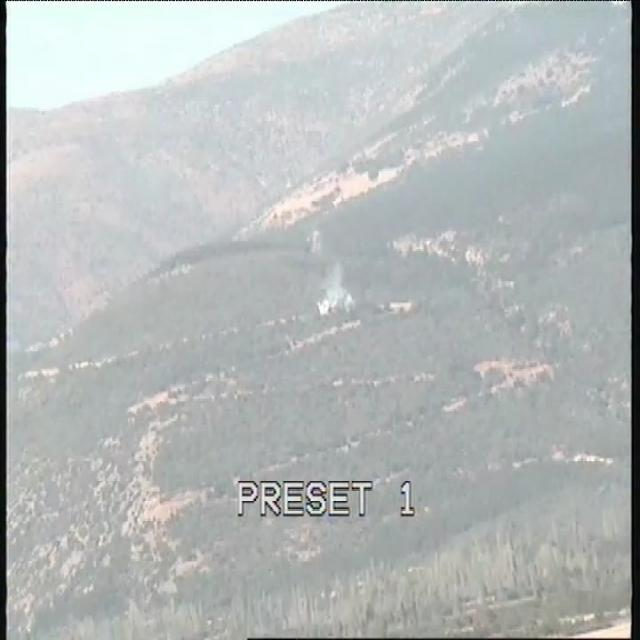smoke: (312, 263, 358, 315)
